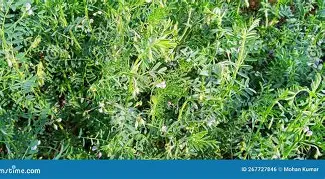crops: (0, 0, 321, 157), (154, 87, 228, 155), (121, 10, 186, 86), (263, 76, 324, 154), (0, 78, 60, 154), (93, 91, 160, 154), (276, 13, 324, 80), (1, 2, 44, 61), (224, 16, 259, 80)
